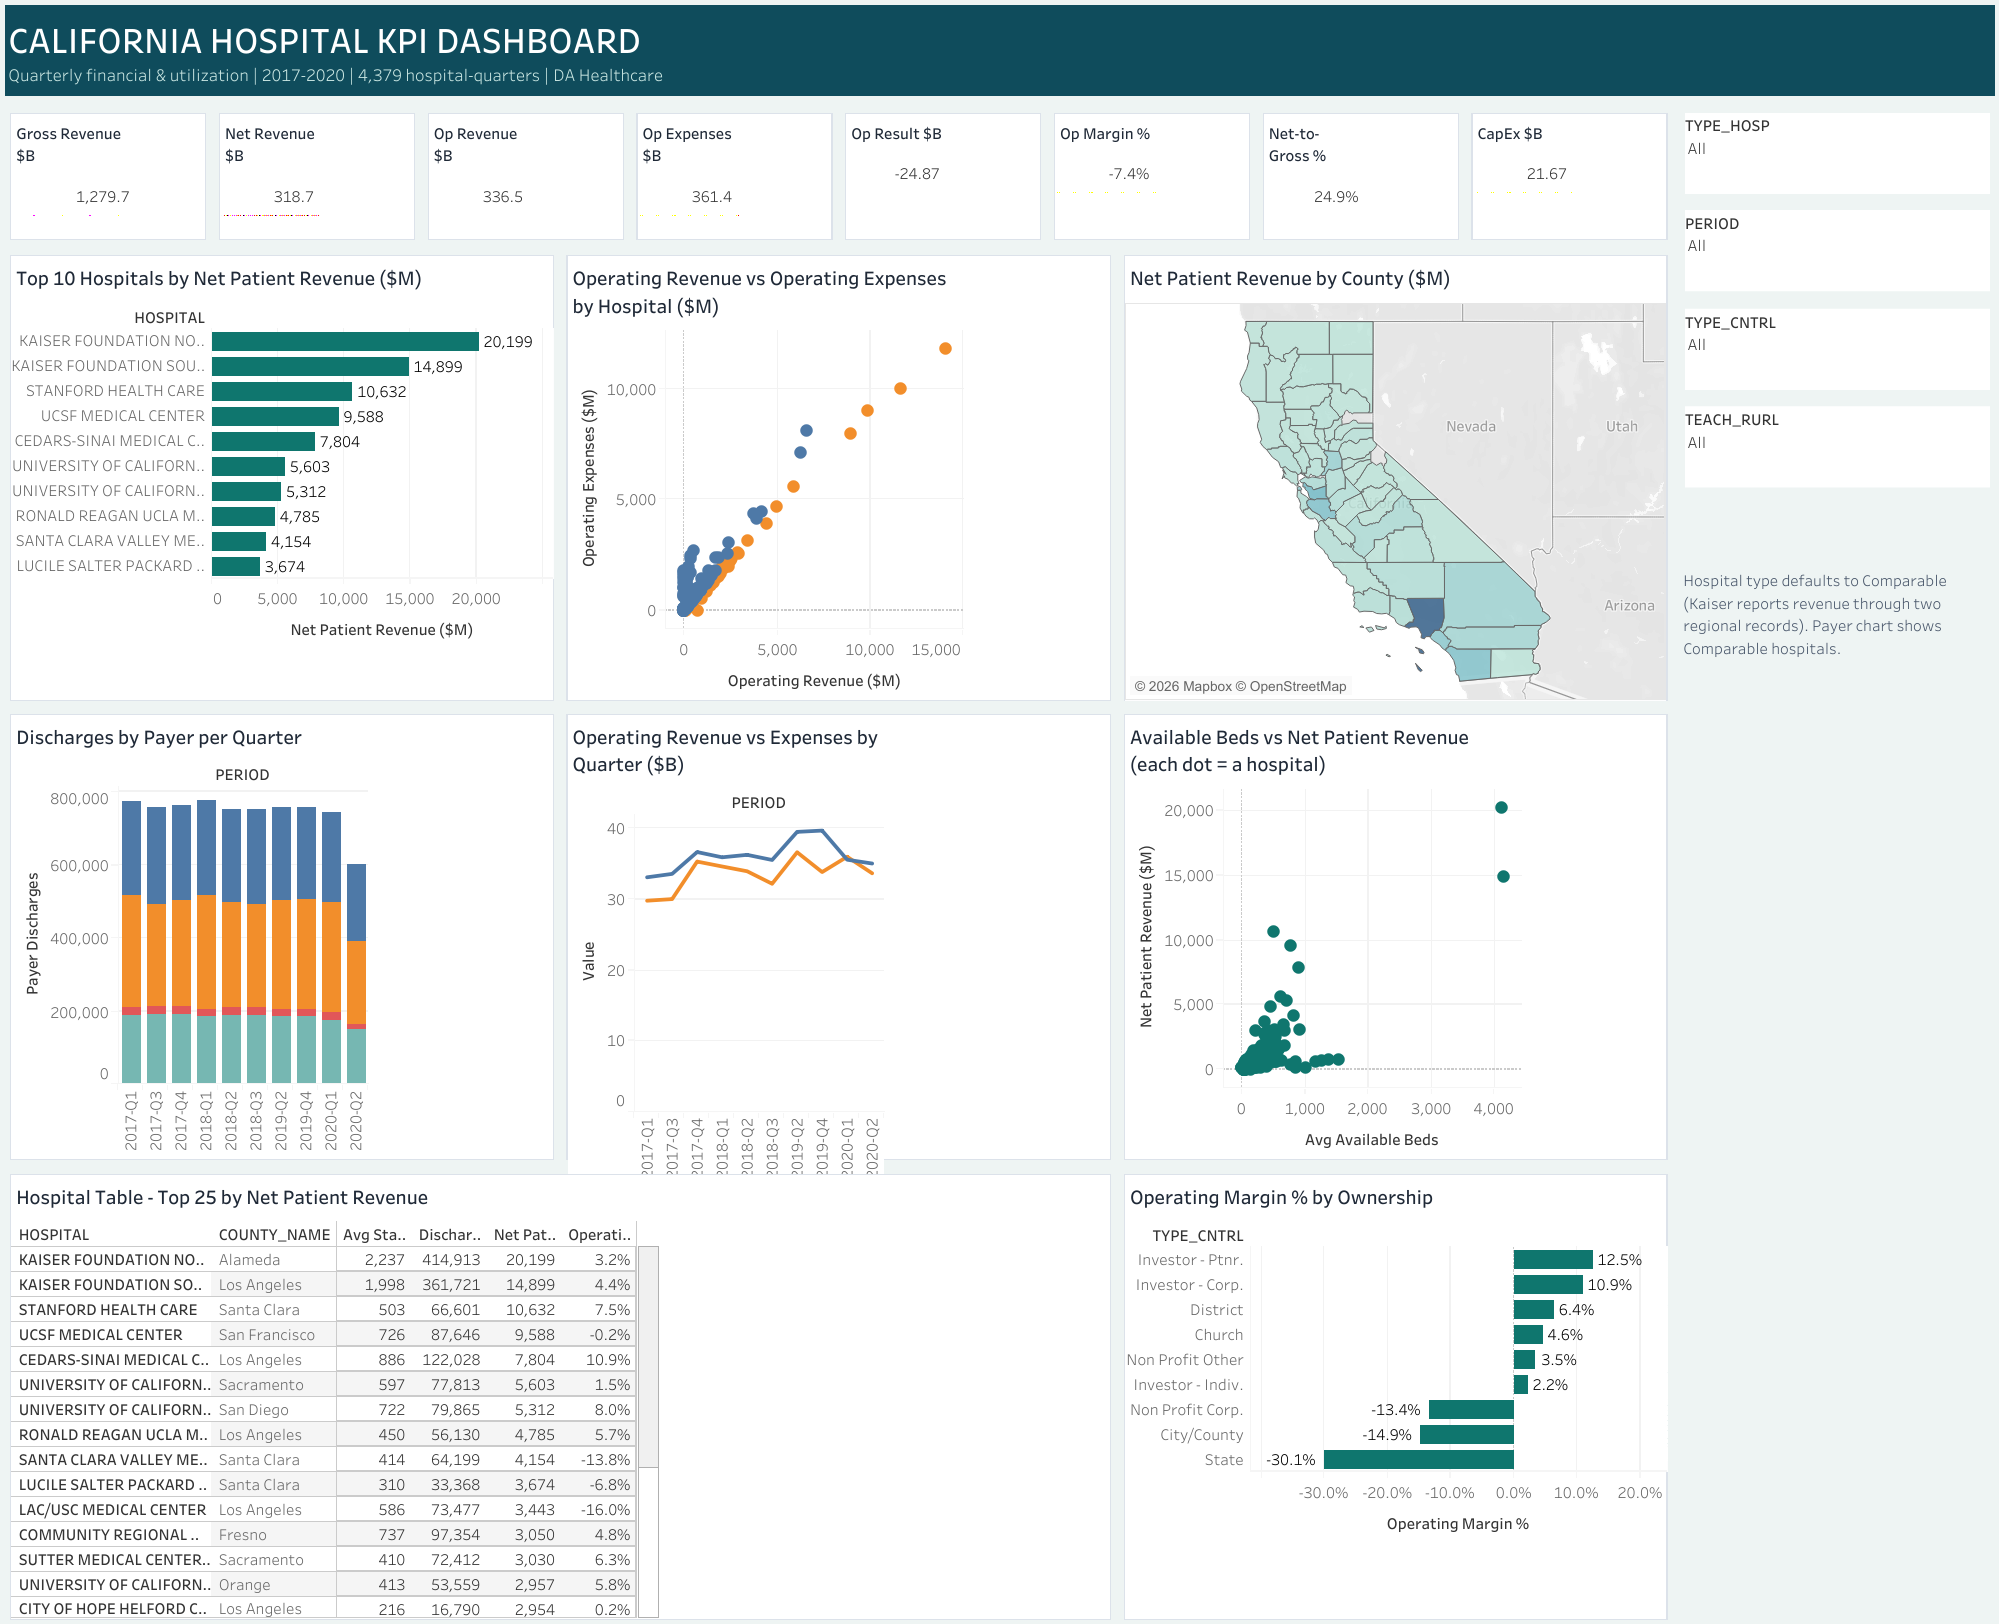

The dashboard page shown, as its layout file describes it:
{"tool":"tableau","page":{"name":"Hospital KPI Dashboard","canvas":[1600,1300],"ordinal":0},"visuals":[{"type":"text","box":[0,0,1600,80.8]},{"type":"worksheet","title":"K Gross Revenue","mark":"Text","box":[4,86,165.1,109.5]},{"type":"worksheet","title":"K Net Revenue","mark":"Text","box":[171,86,165.1,109.5]},{"type":"worksheet","title":"K Op Revenue","mark":"Text","box":[338,86,165.1,109.5]},{"type":"worksheet","title":"K Op Expenses","mark":"Text","box":[505,86,165.1,109.5]},{"type":"worksheet","title":"K Op Result","mark":"Text","box":[672,86,165.1,109.5]},{"type":"worksheet","title":"K Op Margin","mark":"Text","box":[839,86,165.1,109.5]},{"type":"worksheet","title":"K Net to Gross","mark":"Text","box":[1006,86,165.1,109.5]},{"type":"worksheet","title":"K CapEx","mark":"Text","box":[1172.9,86,165.1,109.5]},{"type":"filter","title":"K Net Revenue","param":"[federated.hosp].[none:TYPE_HOSP:nk]","box":[1344,86,252,73]},{"type":"filter","title":"K Net Revenue","param":"[federated.hosp].[none:PERIOD:nk]","box":[1344,164.3,252,73]},{"type":"worksheet","title":"Top 10 Hospitals","mark":"Bar","rows":["HOSPITAL"],"cols":["Calc_net_m"],"box":[4,199.5,443.4,365.1]},{"type":"worksheet","title":"Revenue vs Expenses","mark":"Circle","rows":["Calc_opexp_m"],"cols":["Calc_oprev_m"],"box":[449.3,199.5,443.4,365.1]},{"type":"worksheet","title":"County Map","mark":"Multipolygon","box":[894.7,199.5,443.4,365.1]},{"type":"filter","title":"K Net Revenue","param":"[federated.hosp].[none:TYPE_CNTRL:nk]","box":[1344,242.5,252,73]},{"type":"filter","title":"K Net Revenue","param":"[federated.hosp].[none:TEACH_RURL:nk]","box":[1344,320.8,252,73]},{"type":"text","box":[1344,399,252,182.5]},{"type":"worksheet","title":"Discharges by Payer","mark":"Bar","rows":["Calc_p_dis"],"cols":["PERIOD"],"box":[4,567.2,443.4,365.1]},{"type":"worksheet","title":"Quarterly Trend","mark":"Line","cols":["PERIOD"],"box":[449.3,567.2,443.4,365.1]},{"type":"worksheet","title":"Beds vs Revenue","mark":"Circle","rows":["Calc_net_m"],"cols":["Calc_beds"],"box":[894.7,567.2,443.4,365.1]},{"type":"worksheet","title":"Hospital Table","mark":"Automatic","rows":["HOSPITAL","COUNTY_NAME"],"box":[4,934.9,888.7,365.1]},{"type":"worksheet","title":"Margin by Ownership","mark":"Bar","rows":["TYPE_CNTRL"],"cols":["Calc_margin"],"box":[894.7,934.9,443.4,365.1]}]}

Visuals, with their boxes in screenshot pixels (x1, y1, x2, y2), scaled from the page's 1600x1300 canvas onto the 1999x1624 screenshot:
text: (left=0, top=0, right=1998, bottom=101)
"K Gross Revenue" worksheet (Text marks): (left=5, top=107, right=211, bottom=244)
"K Net Revenue" worksheet (Text marks): (left=214, top=107, right=420, bottom=244)
"K Op Revenue" worksheet (Text marks): (left=422, top=107, right=629, bottom=244)
"K Op Expenses" worksheet (Text marks): (left=631, top=107, right=837, bottom=244)
"K Op Result" worksheet (Text marks): (left=840, top=107, right=1046, bottom=244)
"K Op Margin" worksheet (Text marks): (left=1048, top=107, right=1254, bottom=244)
"K Net to Gross" worksheet (Text marks): (left=1257, top=107, right=1463, bottom=244)
"K CapEx" worksheet (Text marks): (left=1465, top=107, right=1672, bottom=244)
"K Net Revenue" filter: (left=1679, top=107, right=1994, bottom=199)
"K Net Revenue" filter: (left=1679, top=205, right=1994, bottom=296)
"Top 10 Hospitals" worksheet (Bar marks): (left=5, top=249, right=559, bottom=705)
"Revenue vs Expenses" worksheet (Circle marks): (left=561, top=249, right=1115, bottom=705)
"County Map" worksheet (Multipolygon marks): (left=1118, top=249, right=1672, bottom=705)
"K Net Revenue" filter: (left=1679, top=303, right=1994, bottom=394)
"K Net Revenue" filter: (left=1679, top=401, right=1994, bottom=492)
text: (left=1679, top=498, right=1994, bottom=726)
"Discharges by Payer" worksheet (Bar marks): (left=5, top=709, right=559, bottom=1165)
"Quarterly Trend" worksheet (Line marks): (left=561, top=709, right=1115, bottom=1165)
"Beds vs Revenue" worksheet (Circle marks): (left=1118, top=709, right=1672, bottom=1165)
"Hospital Table" worksheet: (left=5, top=1168, right=1115, bottom=1623)
"Margin by Ownership" worksheet (Bar marks): (left=1118, top=1168, right=1672, bottom=1623)
